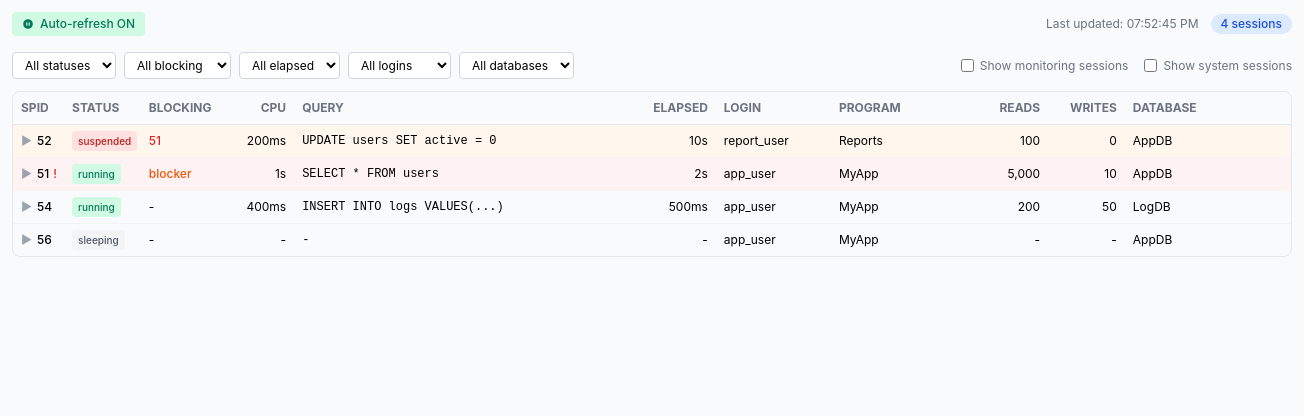
Test: CurrentActivity › shows computed metrics in expanded detail
What coordinates should you click on to do the following:
click the row with test id "session-row-51"
I would click on:
 (652, 174)
Its box is [13,158,1291,190].
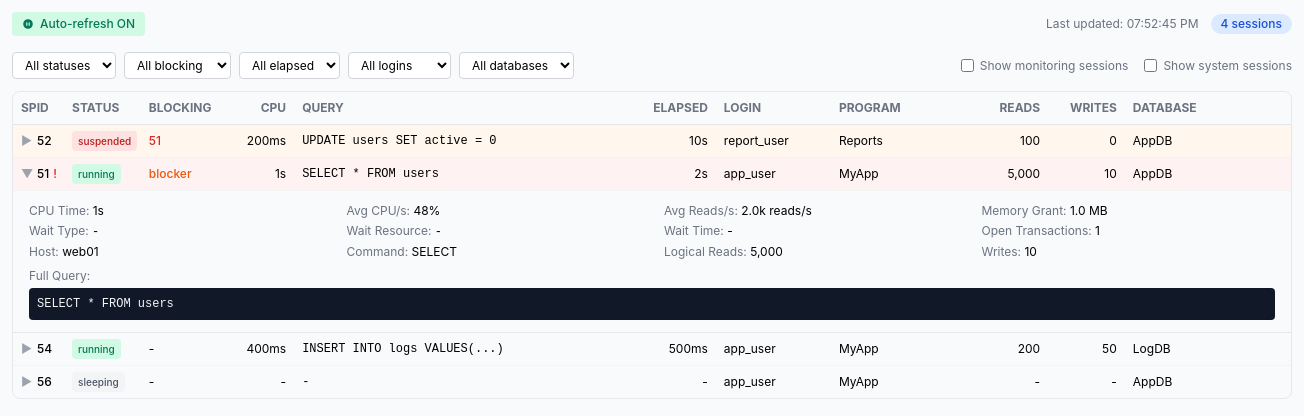
Now the cell with test id "session-detail-51" shows "48%", box [413,203,440,218]
Now the cell with test id "session-detail-51" shows "2.0k reads/s", box [741,203,812,218]
